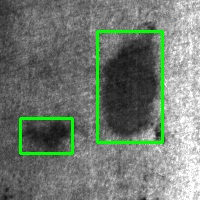patches: (97, 32, 162, 142), (20, 118, 72, 153)
